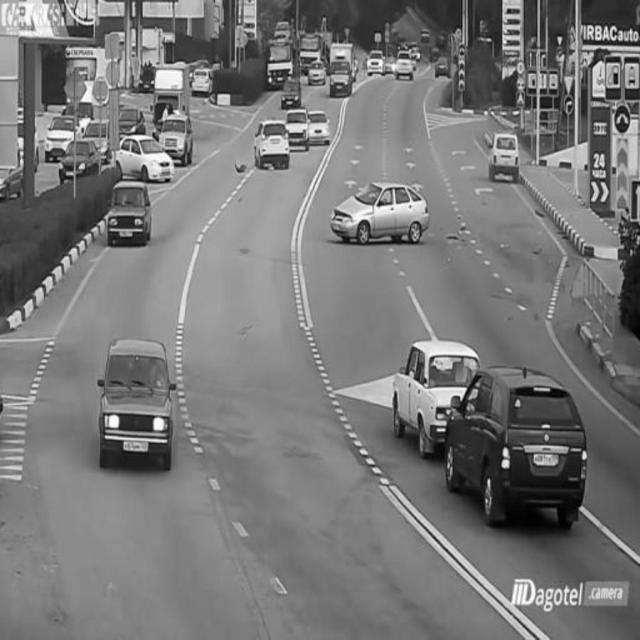vehicle: (448, 372, 589, 534), (98, 334, 175, 468), (391, 333, 467, 446), (334, 178, 435, 246), (110, 136, 177, 188), (110, 174, 151, 244), (54, 131, 105, 183), (254, 118, 292, 172), (487, 126, 521, 181), (158, 114, 195, 160), (266, 27, 301, 75), (44, 104, 74, 159), (283, 112, 313, 154), (308, 103, 338, 145), (328, 54, 356, 96), (189, 62, 215, 97), (395, 42, 417, 82), (365, 45, 385, 81), (432, 46, 450, 86)
